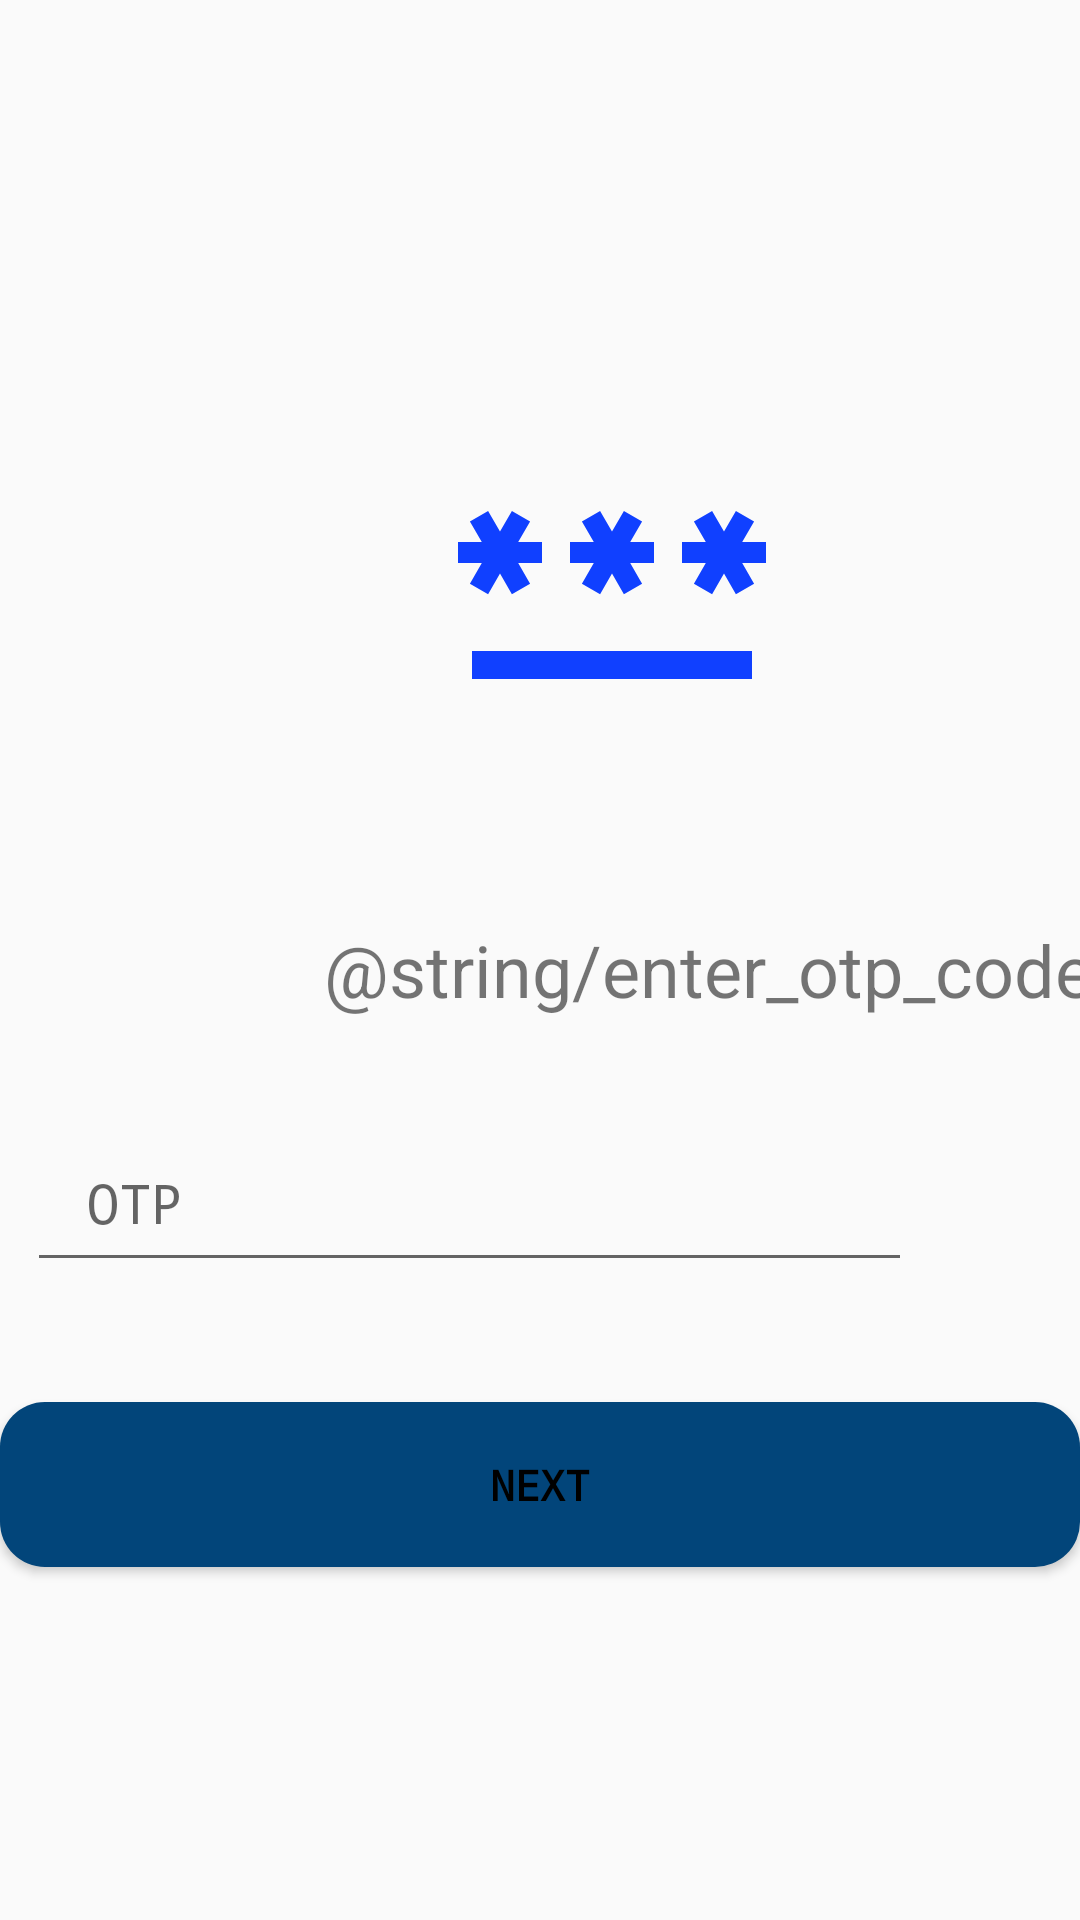

Locate icon controls on the screen. Image size 1080×1920, boxes as [left=x1, top=y1, right=x2, bottom=y2].
passcode lbl: [left=458, top=511, right=766, bottom=679]
